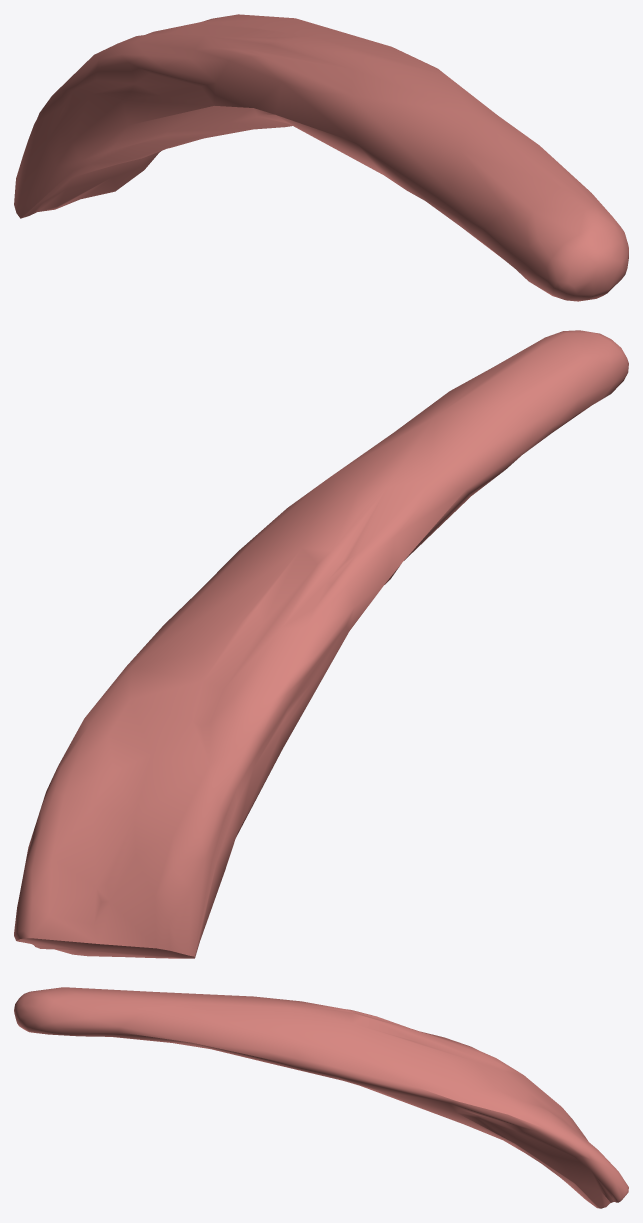
Rendered from fma46327_fj1559.glb.
3 views of the same model, one above another, from view 1: azimuth 30°, elevation 25°; view 2: azimuth 150°, elevation 25°; view 3: azimuth 270°, elevation 25° (orthographic). The views are drawn at different scales.
Visible parts, largest first — view 1: FMA46327_FJ1559; view 2: FMA46327_FJ1559; view 3: FMA46327_FJ1559.
Boxes of the visible parts, <box> form: FMA46327_FJ1559: <box>14,14,628,301</box>; FMA46327_FJ1559: <box>14,330,628,958</box>; FMA46327_FJ1559: <box>14,987,628,1208</box>.
Bounding box in the file's own units: 0.00757 × 0.0138 × 0.0393.
